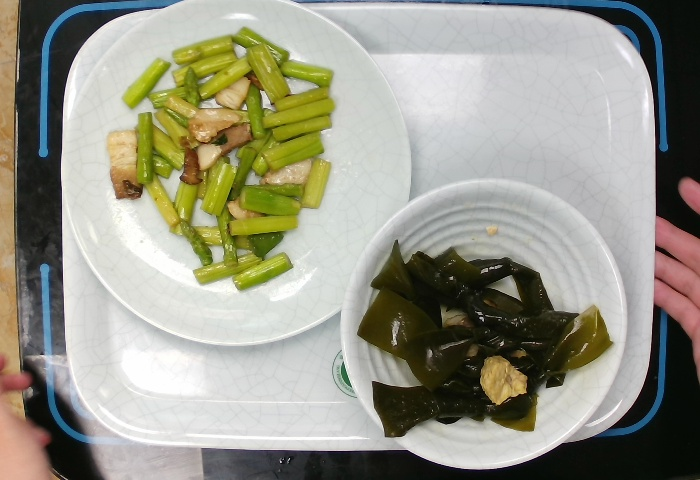JYsf-Da_Yuan_Pan: (56, 5, 416, 349)
JYsf-Xiao_Tang_Wan: (337, 179, 628, 472)
